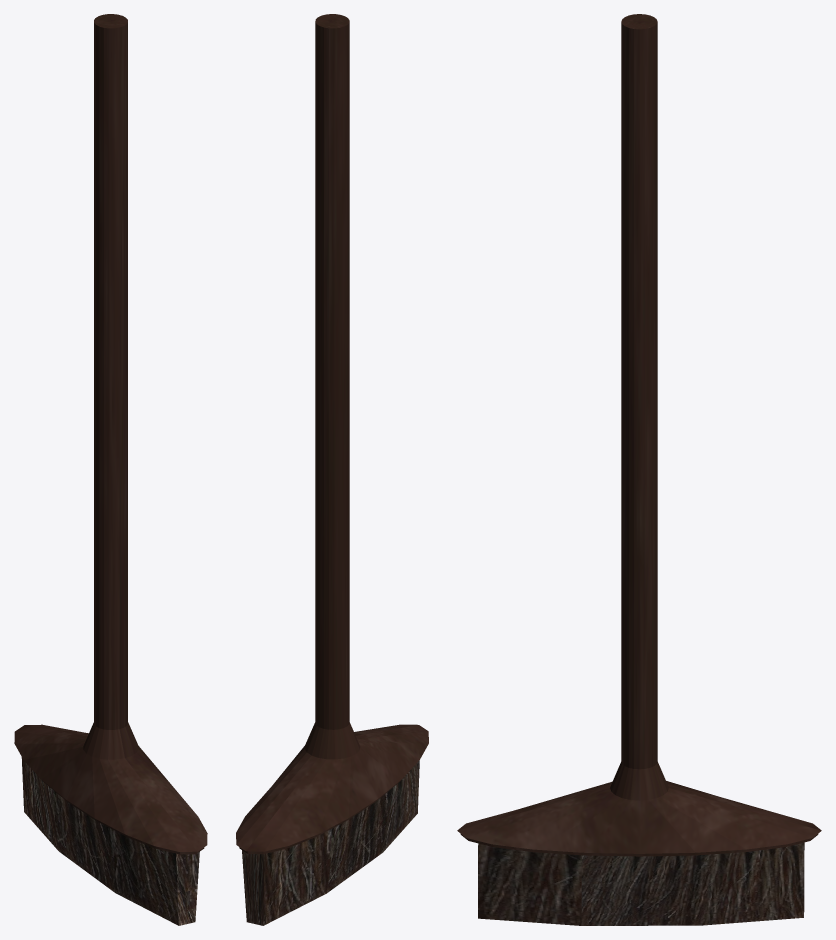
Rendered from broom.fbx.
The picture shows the model from 3 angles, left to right: view 1: azimuth 30°, elevation 25°; view 2: azimuth 150°, elevation 25°; view 3: azimuth 270°, elevation 25°; orthographic projection. The views are drawn at different scales.
Parts seen in each view (by area): view 1: Cylinder; view 2: Cylinder; view 3: Cylinder.
Boxes of the visible parts, left/top/right/bottom form: Cylinder: left=14, top=14, right=207, bottom=925; Cylinder: left=236, top=14, right=428, bottom=925; Cylinder: left=457, top=14, right=821, bottom=925.
Size of the model in its own units: 67.44 by 604 by 224.
